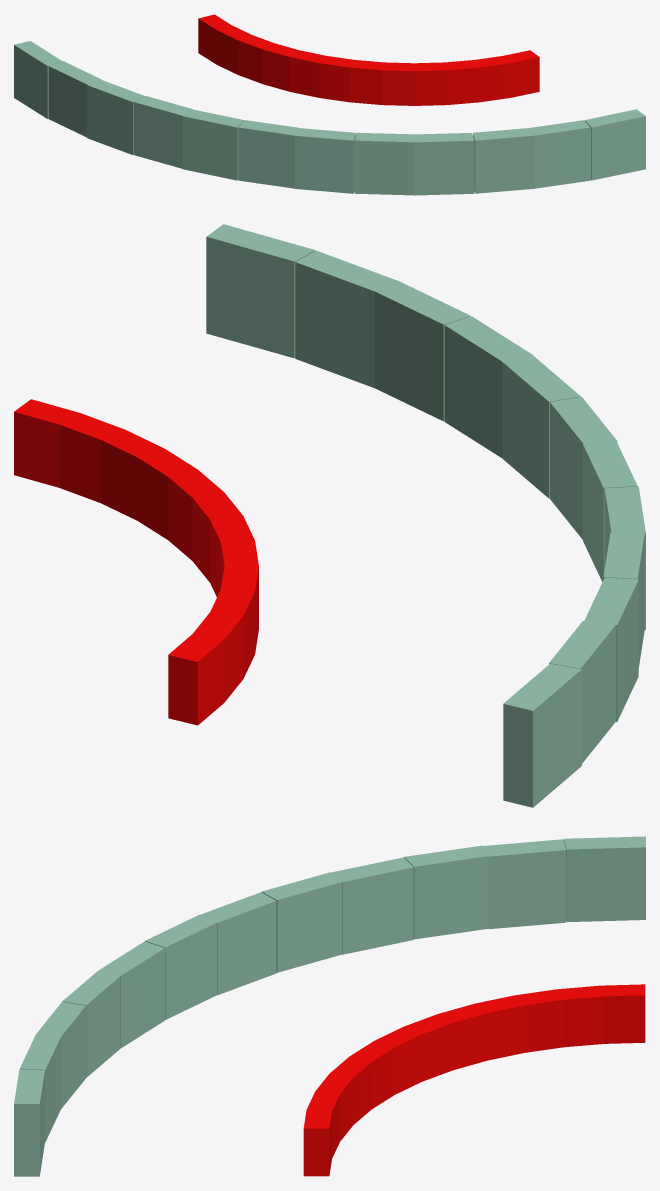
Rendered from BarrerasCornerLarge.fbx.
The picture shows the model from 3 angles, top to bottom: view 1: azimuth 30°, elevation 25°; view 2: azimuth 150°, elevation 25°; view 3: azimuth 270°, elevation 25°; orthographic projection. The views are drawn at different scales.
Visible parts, largest first — view 1: roadCornerLarge.004, roadCornerLarge.005, roadCornerLarge.003, roadCornerLarge.002; view 2: roadCornerLarge.005, roadCornerLarge.004, roadCornerLarge.002, roadCornerLarge.003; view 3: roadCornerLarge.005, roadCornerLarge.004, roadCornerLarge.003, roadCornerLarge.002.
Boxes of the visible parts, x1,y1,x2,y2 form: roadCornerLarge.004: (48, 61, 645, 195); roadCornerLarge.005: (14, 41, 590, 195); roadCornerLarge.003: (216, 25, 539, 105); roadCornerLarge.002: (198, 14, 510, 105); roadCornerLarge.005: (295, 250, 645, 807); roadCornerLarge.004: (206, 224, 644, 763); roadCornerLarge.002: (59, 413, 258, 725); roadCornerLarge.003: (14, 399, 258, 702); roadCornerLarge.005: (20, 836, 645, 1142); roadCornerLarge.004: (14, 839, 566, 1176); roadCornerLarge.003: (303, 985, 603, 1176); roadCornerLarge.002: (306, 984, 645, 1158).
Size of the model in its own units: 200 by 25.38 by 200.
